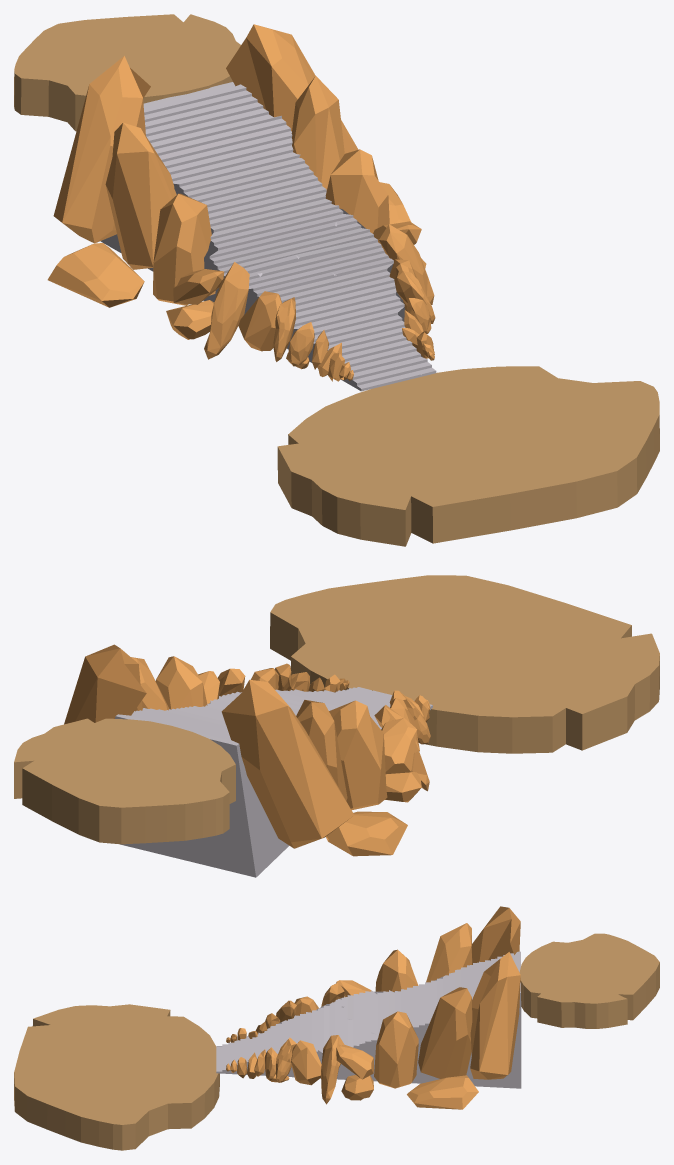
The model's file is little stage.glb.
3 renders of one model, top to bottom at view 1: azimuth 30°, elevation 25°; view 2: azimuth 150°, elevation 25°; view 3: azimuth 270°, elevation 25°, orthographic. The views are drawn at different scales.
Visible parts, largest first — view 1: stage2, stairs, Icosphere.013, Icosphere.017, stage; view 2: stage2, Icosphere.013, stage, stairs, Icosphere.017; view 3: stage2, Icosphere.017, stage, stairs, Icosphere.013.
Boxes of the visible parts, x1,y1,x2,y2 form: stage2: (277, 366, 659, 546); stairs: (100, 82, 436, 391); Icosphere.013: (47, 56, 353, 381); Icosphere.017: (226, 24, 435, 360); stage: (14, 14, 240, 131); stage2: (270, 575, 659, 753); Icosphere.013: (221, 679, 430, 856); stage: (14, 718, 235, 844); stairs: (115, 687, 432, 877); Icosphere.017: (64, 644, 349, 724); stage2: (14, 1004, 219, 1150); Icosphere.017: (226, 952, 520, 1109); stage: (519, 933, 659, 1028); stairs: (216, 951, 521, 1088); Icosphere.013: (226, 906, 520, 1042).
Bounding box in the file's own units: 39.57 × 23.7 × 87.7.
